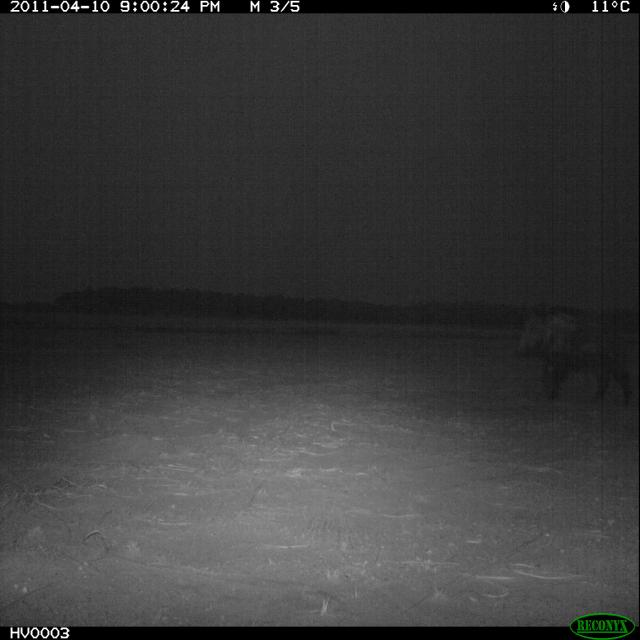boar: (497, 290, 640, 451)
